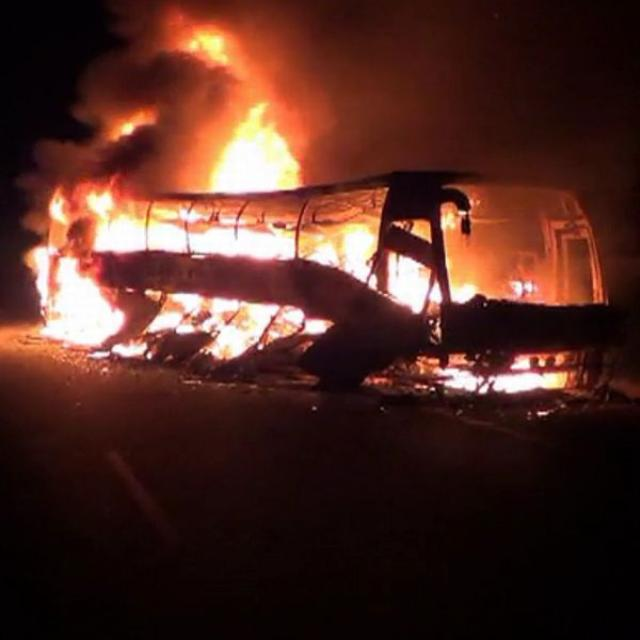accident: (27, 0, 625, 394)
